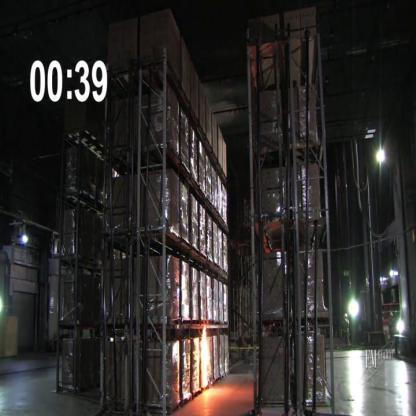fire: (198, 325, 211, 394)
